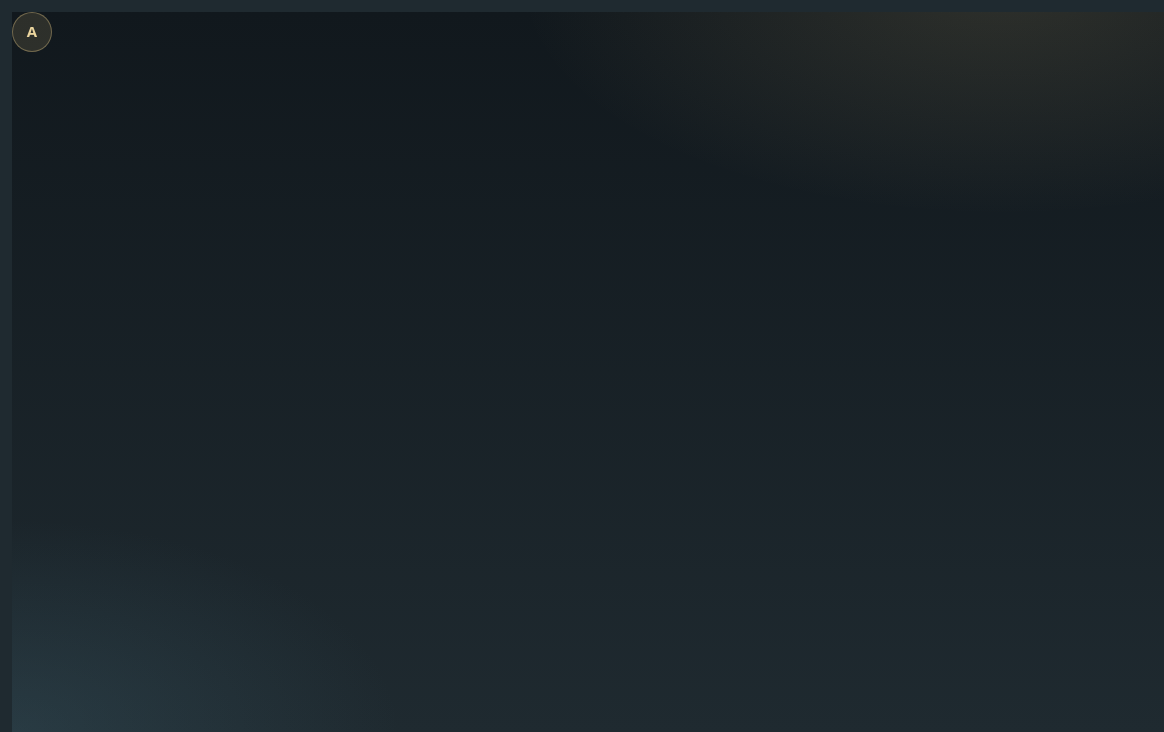
ProfileMenu › opens on click for touch and keyboard, and the items run their handlers
The width and height of the screenshot is (1164, 732).
Later steps or results of the test are not shown.
Click the button named "Account menu".
click(32, 32)  # box 12,12 -> 52,52
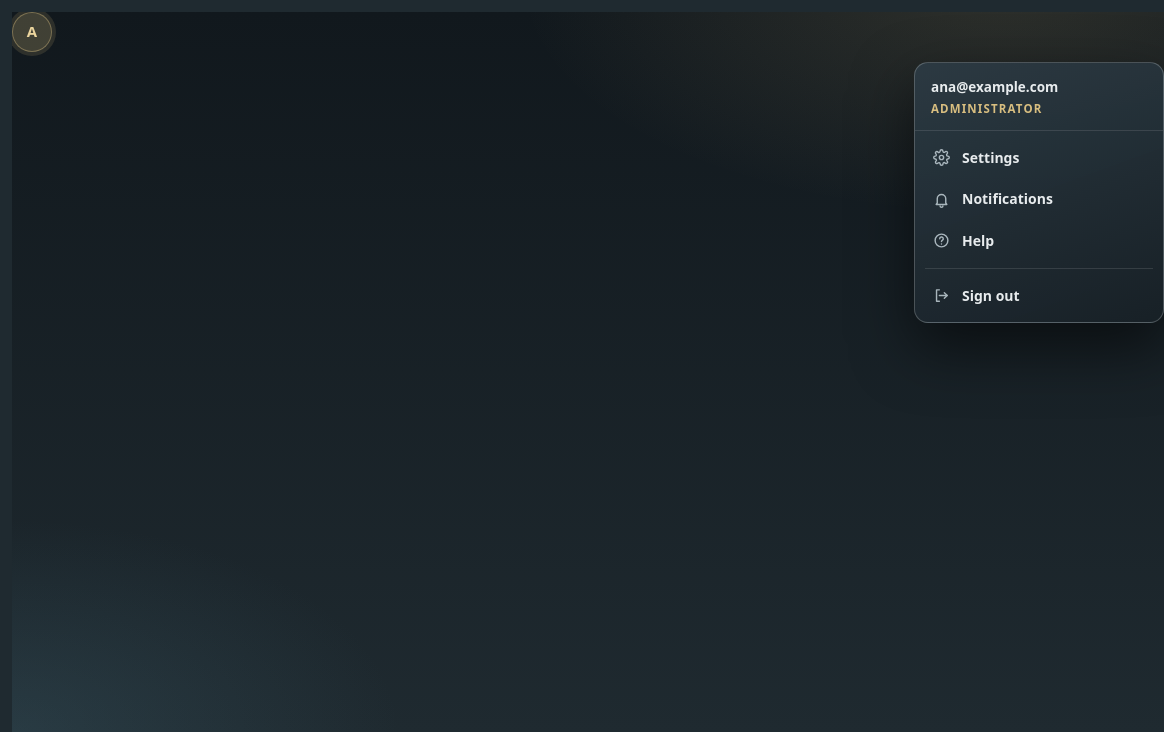
Expected: the button named "Account menu" is expanded, 12,12 -> 52,52
Expected: the text "Administrator" is shown, 931,101 -> 1042,116
